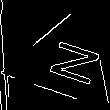N_W: (34, 34, 98, 89)
